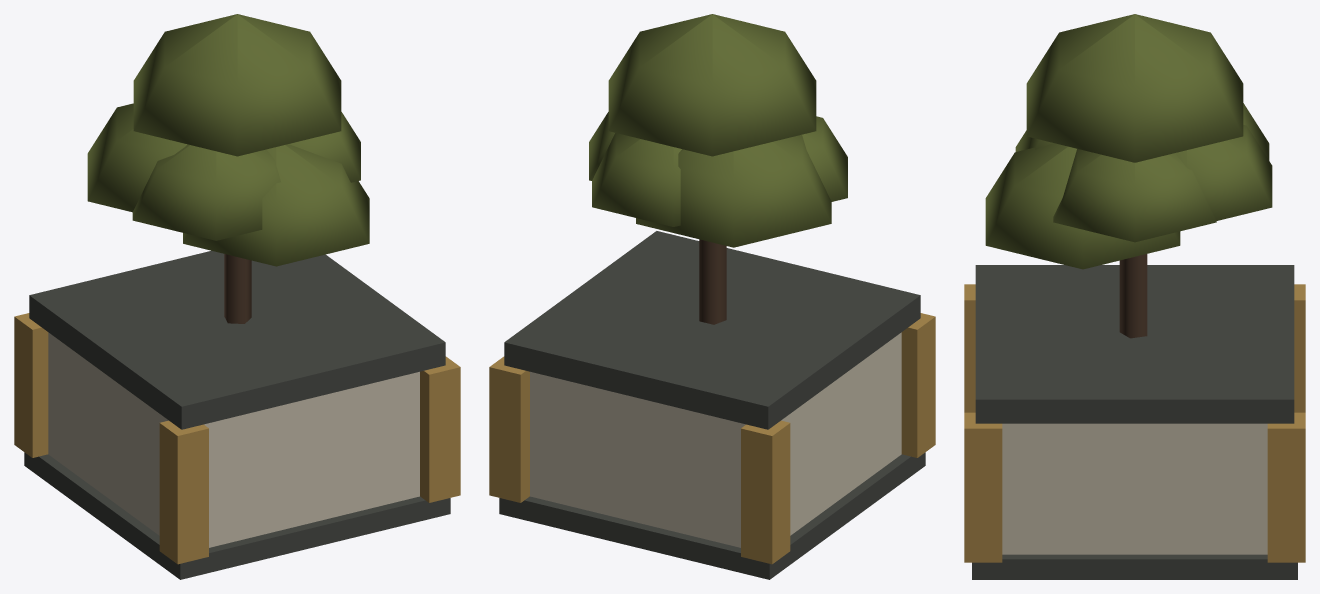
The model's file is planter.glb.
3 renders of one model, left to right at view 1: azimuth 30°, elevation 25°; view 2: azimuth 150°, elevation 25°; view 3: azimuth 270°, elevation 25°, orthographic. The views are drawn at different scales.
Visible parts, largest first — view 1: planter; view 2: planter; view 3: planter.
Part boxes in pixels (x1=…): planter: x1=14, y1=14, x2=460, y2=579; planter: x1=489, y1=14, x2=935, y2=579; planter: x1=964, y1=14, x2=1305, y2=579.
Bounding box in the file's own units: 0.9 × 1.45 × 0.9.
